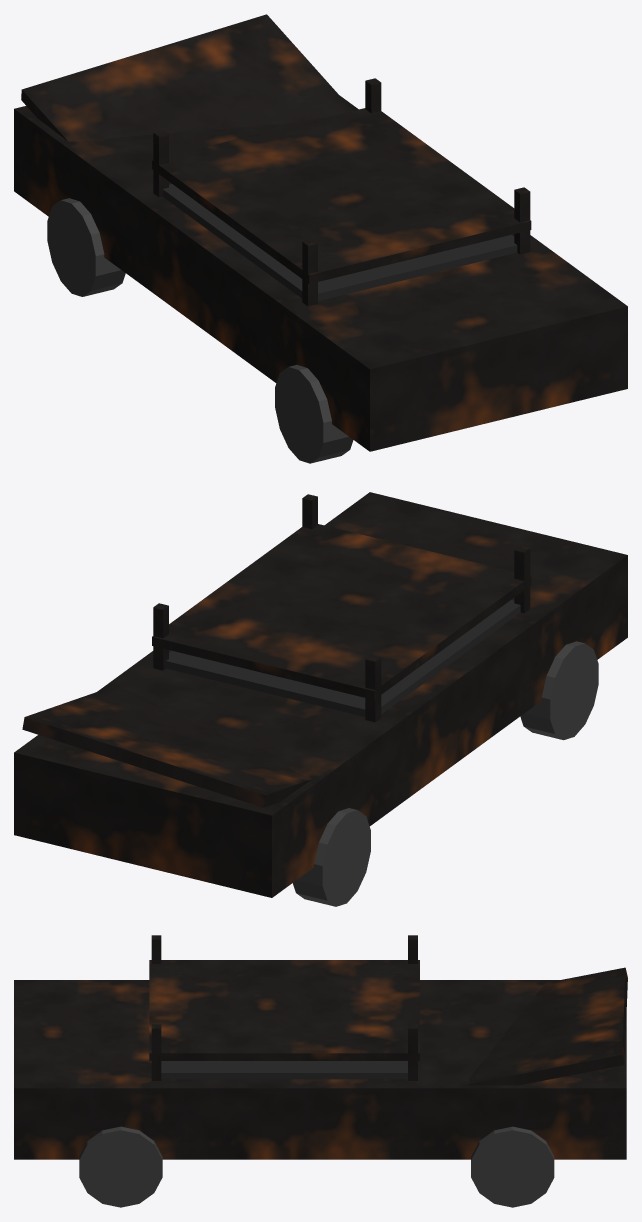
File: wreck.glb
3 views of the same model, one above another, from view 1: azimuth 30°, elevation 25°; view 2: azimuth 150°, elevation 25°; view 3: azimuth 270°, elevation 25° (orthographic). The views are drawn at different scales.
Visible parts, largest first — view 1: wreck; view 2: wreck; view 3: wreck.
Part boxes in pixels (x1,y1,x2,y2): wreck: [14, 14, 627, 463]; wreck: [14, 492, 627, 906]; wreck: [14, 935, 627, 1207].
Size of the model in its own units: 1.92 by 1.3 by 4.31.
3 materials, 1 textured.
